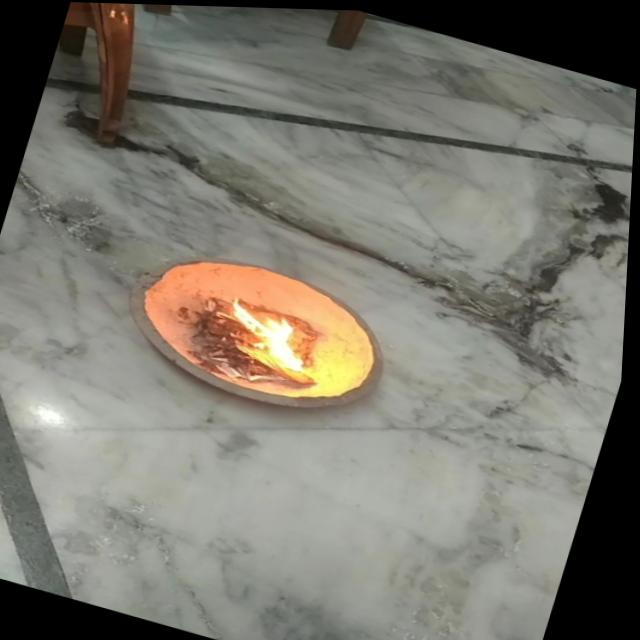fire: (208, 289, 331, 379)
